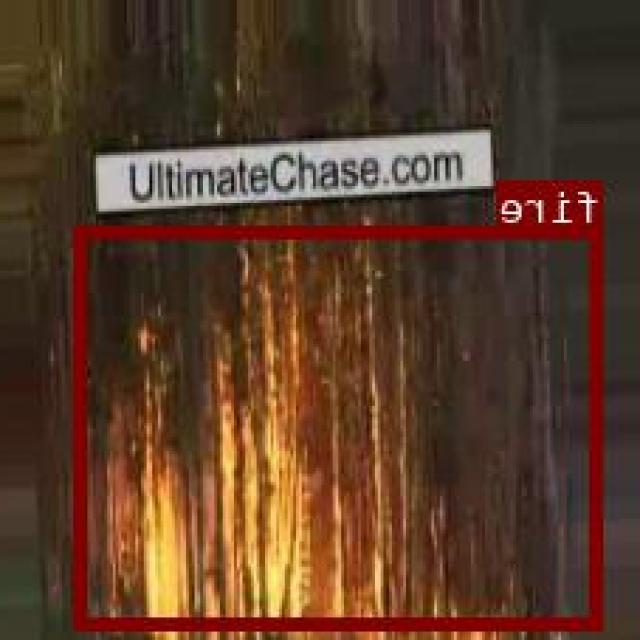fire: (78, 224, 606, 628)
